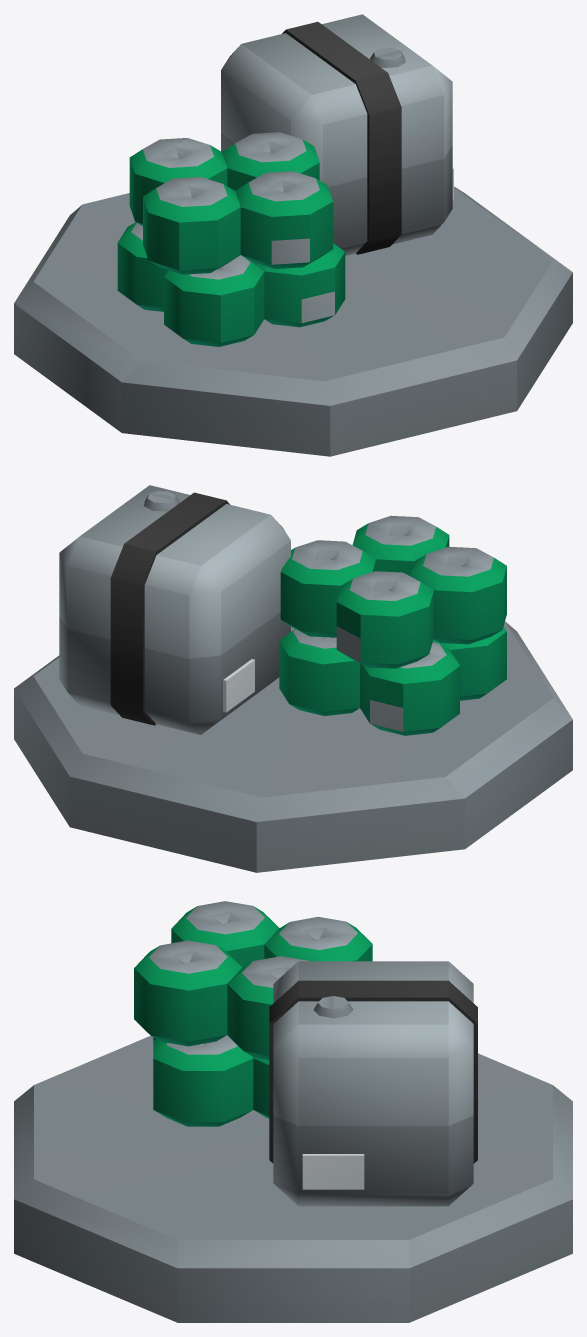
The model's file is kaykit-space-base-bits-roofmodule-cargo-a.glb.
The picture shows the model from 3 angles, top to bottom: view 1: azimuth 30°, elevation 25°; view 2: azimuth 150°, elevation 25°; view 3: azimuth 270°, elevation 25°; orthographic projection. The views are drawn at different scales.
Parts seen in each view (by area): view 1: roofmodule_cargo_A; view 2: roofmodule_cargo_A; view 3: roofmodule_cargo_A.
Boxes of the visible parts, box(x1,y1,x2,y2) form: roofmodule_cargo_A: box(14, 14, 572, 456); roofmodule_cargo_A: box(14, 485, 572, 872); roofmodule_cargo_A: box(14, 901, 572, 1322).
Size of the model in its own units: 1.4 by 0.72 by 1.4.
1 material, 1 textured.
